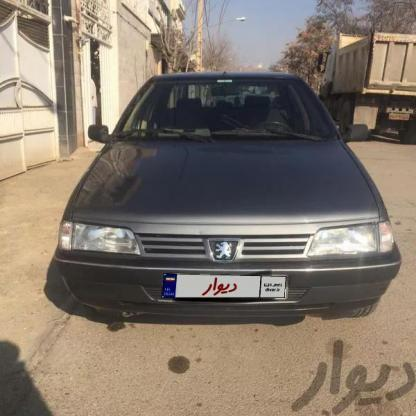Car: (46, 61, 393, 333)
Truck: (318, 26, 416, 142)
